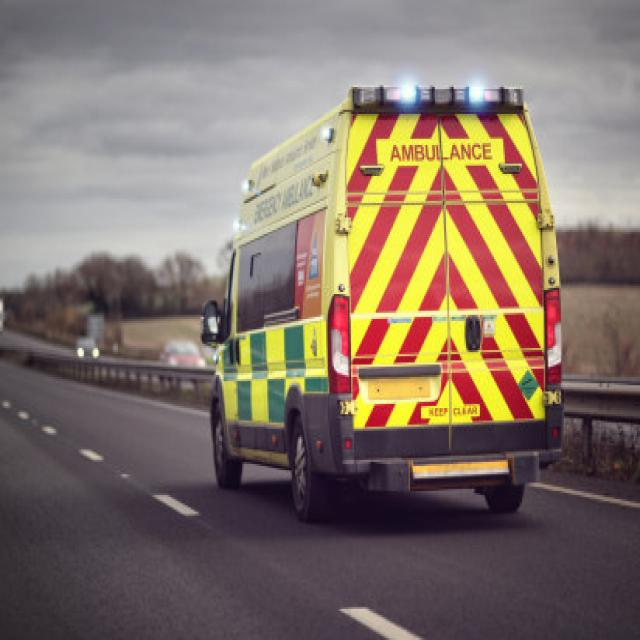emergency: (202, 88, 559, 519)
